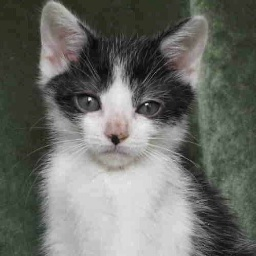cat: (27, 10, 256, 256)
